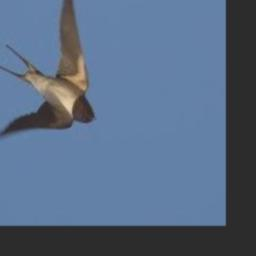Swallow: (0, 0, 95, 139)
